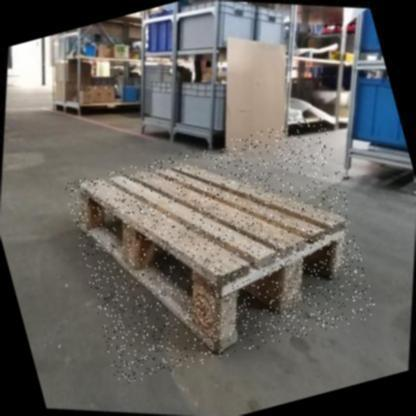pallet: (79, 161, 347, 349)
